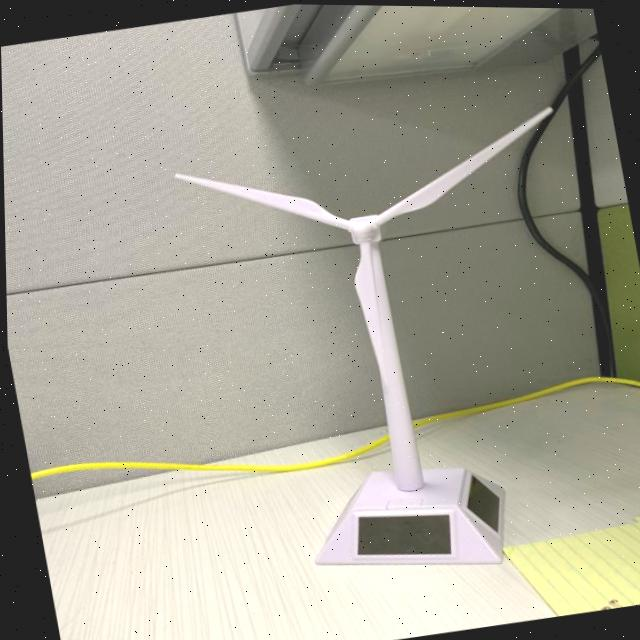solid-blade: (374, 106, 550, 224), (174, 173, 348, 229)
